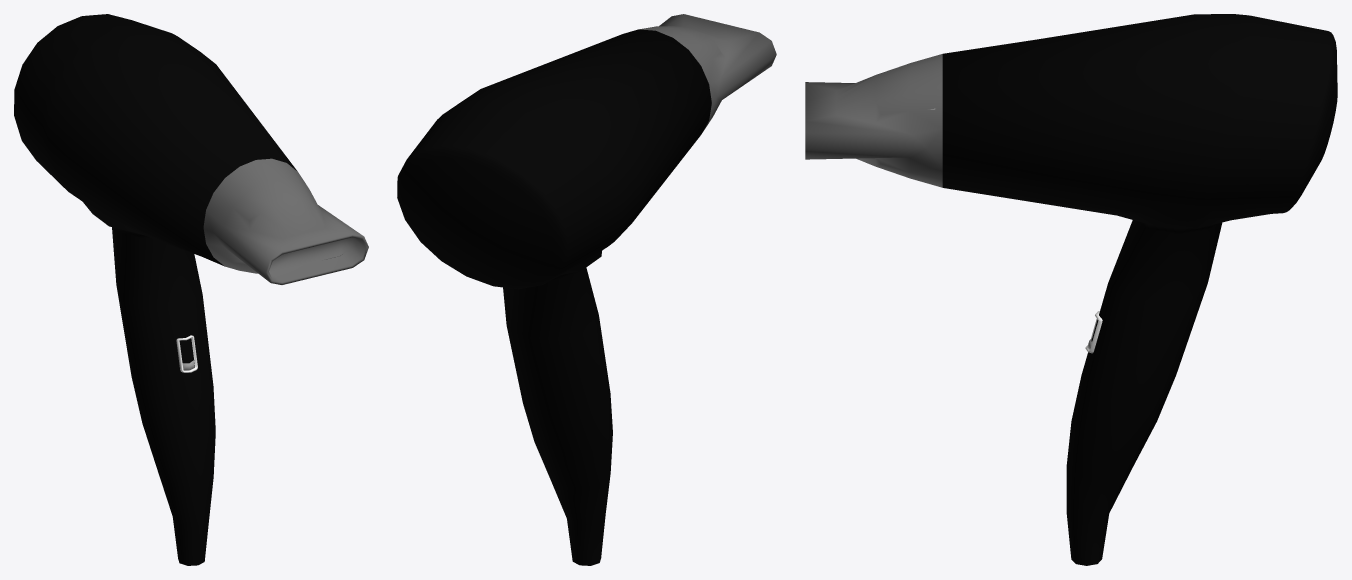
The model's file is Hairdryer V2.fbx.
3 views of the same model, side by side, from view 1: azimuth 30°, elevation 25°; view 2: azimuth 150°, elevation 25°; view 3: azimuth 270°, elevation 25° (orthographic). The views are drawn at different scales.
Parts seen in each view (by area): view 1: HairDryer; view 2: HairDryer; view 3: HairDryer.
Part boxes in pixels (x1,y1,x2,y2): HairDryer: (14, 14, 368, 565); HairDryer: (397, 14, 776, 565); HairDryer: (805, 14, 1337, 565).
Bounding box in the file's own units: 108 × 277 × 250.
Materials: 1 (1 with a texture image).
